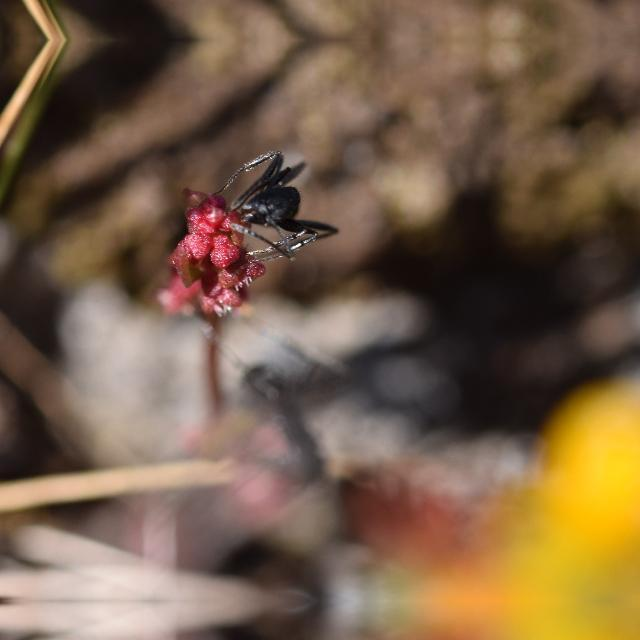Apheanogaster: (166, 156, 328, 260)
